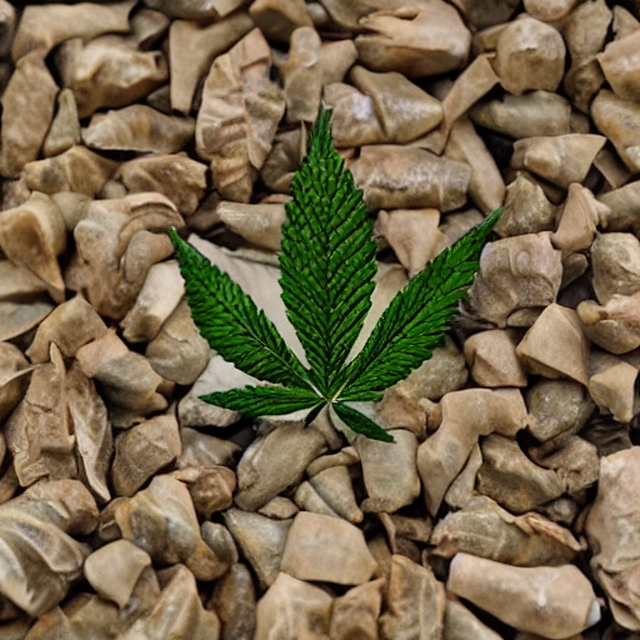Marijuana Leaf: (164, 101, 507, 445)
